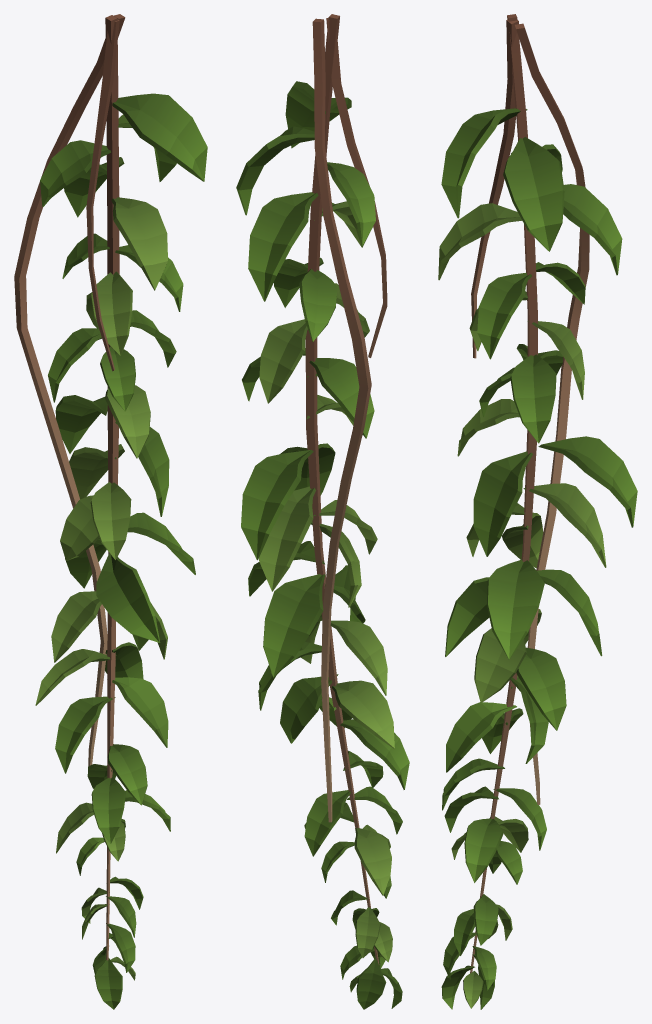
Rendered from Cavern_Vines-03.fbx.
3 views of the same model, side by side, from view 1: azimuth 30°, elevation 25°; view 2: azimuth 150°, elevation 25°; view 3: azimuth 270°, elevation 25° (orthographic). The views are drawn at different scales.
Visible parts, largest first — view 1: Cavern_Vines-03; view 2: Cavern_Vines-03; view 3: Cavern_Vines-03.
Part boxes in pixels (<box>): Cavern_Vines-03: <box>14,14,207,1009</box>; Cavern_Vines-03: <box>236,14,409,1009</box>; Cavern_Vines-03: <box>438,14,637,1009</box>.
Bounding box in the file's own units: 80.03 × 492 × 88.2.
Materials: 1 (1 with a texture image).
